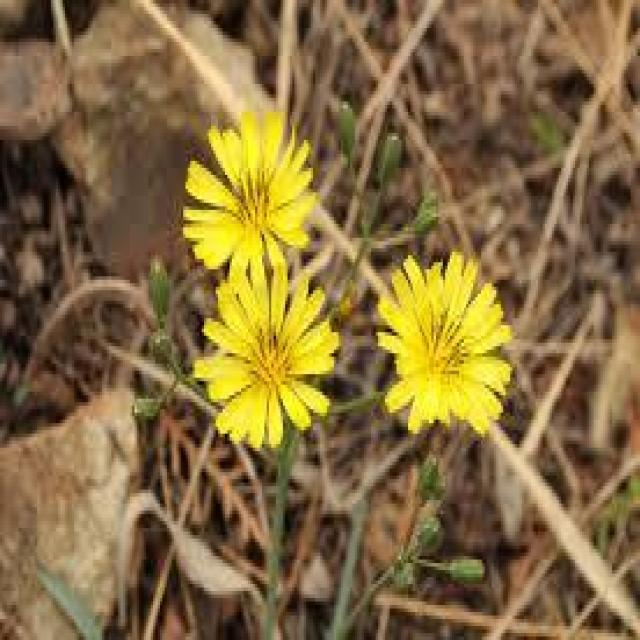organic waste: (369, 245, 517, 437), (203, 255, 342, 458), (182, 114, 330, 278)
